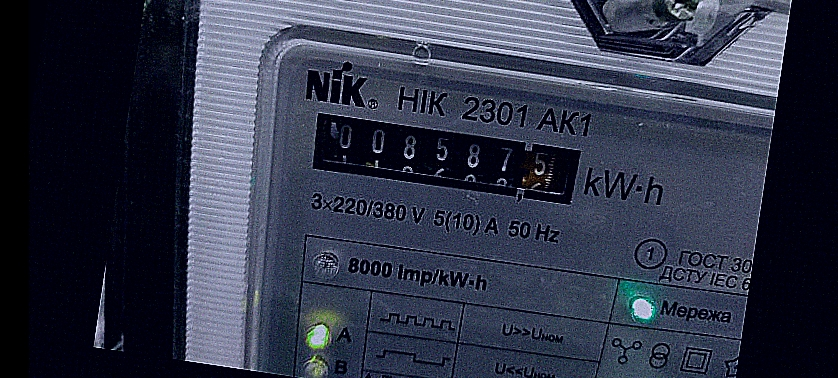0: (335, 119, 356, 150), (369, 125, 390, 155)
5: (531, 148, 552, 179), (432, 133, 453, 163)
7: (495, 141, 516, 174)
8: (463, 138, 485, 170), (400, 130, 420, 160)
screen: (290, 93, 601, 219)
